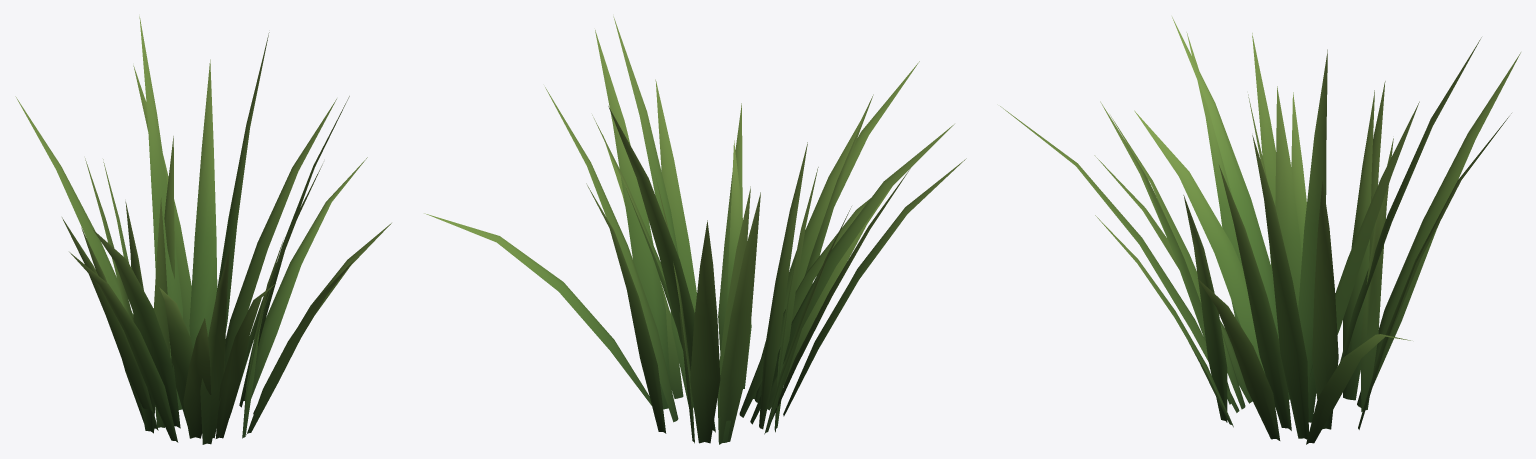
The model's file is grass_tuft.glb.
The picture shows the model from 3 angles, left to right: view 1: azimuth 30°, elevation 25°; view 2: azimuth 150°, elevation 25°; view 3: azimuth 270°, elevation 25°; orthographic projection. The views are drawn at different scales.
Parts seen in each view (by area): view 1: GrassTuft; view 2: GrassTuft; view 3: GrassTuft.
Part boxes in pixels (x1,y1,x2,y2): GrassTuft: [15, 16, 391, 444]; GrassTuft: [424, 16, 966, 444]; GrassTuft: [1000, 17, 1520, 444].
Size of the model in its own units: 0.3485 by 0.299 by 0.3455.
